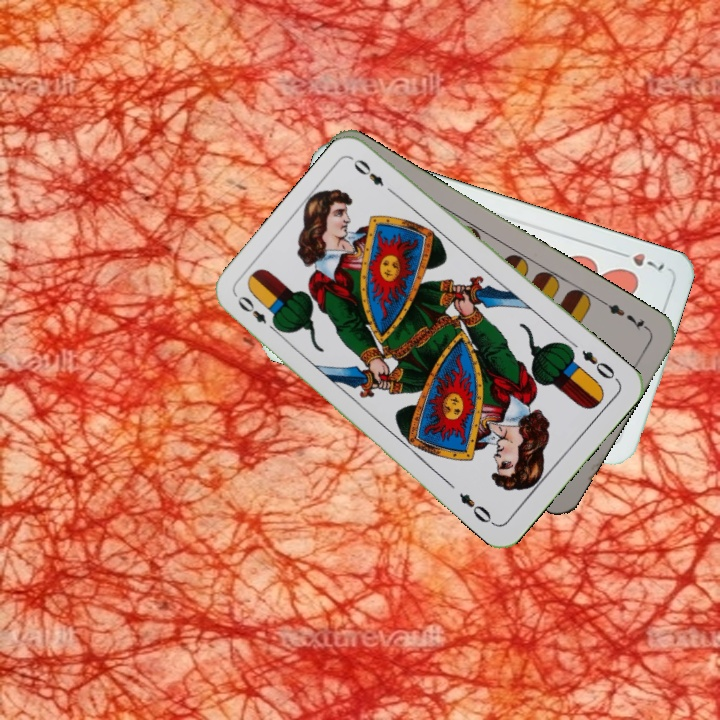E7: (598, 297, 652, 333)
EO: (233, 292, 283, 336), (577, 346, 621, 384)
H7: (612, 246, 668, 275)
